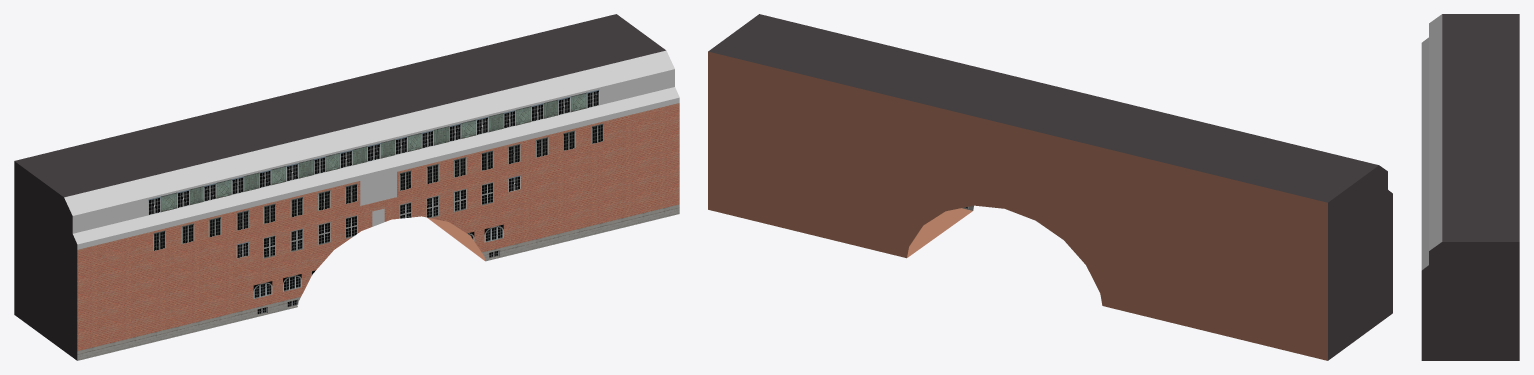
The model's file is Vault.fbx.
The picture shows the model from 3 angles, left to right: view 1: azimuth 30°, elevation 25°; view 2: azimuth 150°, elevation 25°; view 3: azimuth 270°, elevation 25°; orthographic projection. The views are drawn at different scales.
Visible parts, largest first — view 1: courtyardv4:Mesh1; view 2: courtyardv4:Mesh1; view 3: courtyardv4:Mesh1.
Part boxes in pixels (box(x1,y1,x2,y2)): courtyardv4:Mesh1: box(14, 14, 679, 360); courtyardv4:Mesh1: box(708, 14, 1392, 360); courtyardv4:Mesh1: box(1421, 14, 1519, 360).
Bounding box in the file's own units: 14.91 × 3.64 × 2.71.
